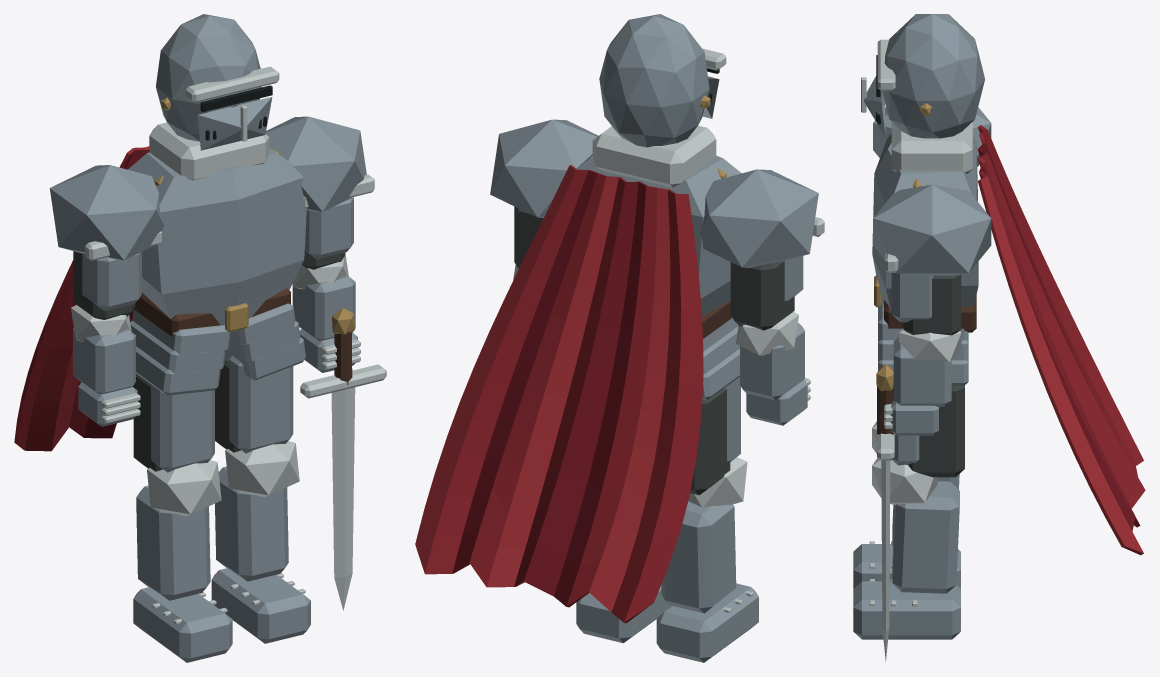
Rendered from knight.glb.
The picture shows the model from 3 angles, left to right: view 1: azimuth 30°, elevation 25°; view 2: azimuth 150°, elevation 25°; view 3: azimuth 270°, elevation 25°; orthographic projection. The views are drawn at different scales.
Visible parts, largest first — view 1: Ridged breastplate, Left shoulder pauldron, Heavy folded crimson cape, Angular closed bascinet, Left shaped greave, Right shoulder pauldron, Right shaped greave, Left sabaton, Right sabaton, Right cuisse, Left cuisse, Double edged sword blade (+27 smaller); view 2: Heavy folded crimson cape, Angular closed bascinet, Left shoulder pauldron, Right shoulder pauldron, Left shaped greave, Left sabaton, Gorget collar, Ridged breastplate, Left upper arm, Left vambrace, Left padded thigh, Right sabaton (+9 smaller); view 3: Heavy folded crimson cape, Angular closed bascinet, Right shoulder pauldron, Right shaped greave, Right sabaton, Ridged breastplate, Gorget collar, Right padded thigh, Right vambrace, Right upper arm, Right rerebrace, Right knee (+14 smaller).
Boxes of the visible parts, x1,y1,x2,y2 form: Ridged breastplate: [128, 148, 306, 332]; Left shoulder pauldron: [49, 165, 164, 260]; Heavy folded crimson cape: [14, 146, 149, 451]; Angular closed bascinet: [156, 14, 261, 141]; Left shaped greave: [136, 485, 210, 600]; Right shoulder pauldron: [265, 116, 366, 211]; Right shaped greave: [215, 466, 288, 581]; Left sabaton: [133, 587, 232, 662]; Right sabaton: [211, 568, 310, 643]; Right cuisse: [229, 355, 293, 453]; Left cuisse: [151, 384, 214, 472]; Double edged sword blade: [331, 387, 355, 610]; Heavy folded crimson cape: [415, 165, 703, 623]; Angular closed bascinet: [599, 14, 709, 147]; Left shoulder pauldron: [700, 169, 818, 267]; Right shoulder pauldron: [490, 119, 598, 217]; Left shaped greave: [661, 501, 736, 613]; Left sabaton: [656, 583, 758, 662]; Gorget collar: [592, 125, 716, 187]; Ridged breastplate: [560, 154, 741, 316]; Left upper arm: [730, 261, 794, 330]; Left vambrace: [740, 322, 804, 400]; Left padded thigh: [690, 388, 730, 495]; Right sabaton: [576, 585, 672, 643]; Heavy folded crimson cape: [977, 125, 1145, 555]; Angular closed bascinet: [882, 14, 984, 138]; Right shoulder pauldron: [873, 184, 991, 275]; Right shaped greave: [892, 481, 959, 593]; Right sabaton: [853, 581, 960, 639]; Ridged breastplate: [872, 134, 978, 311]; Gorget collar: [891, 122, 972, 173]; Right padded thigh: [908, 385, 964, 477]; Right vambrace: [893, 337, 951, 406]; Right upper arm: [903, 274, 961, 335]; Right rerebrace: [891, 273, 933, 322]; Right knee: [872, 458, 937, 505].
Size of the model in its own units: 0.8891 by 1.71 by 0.756.
